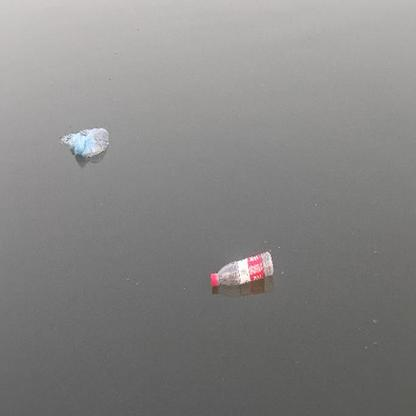plastic bag: (62, 126, 110, 158)
plastic bottle: (209, 251, 274, 288)
